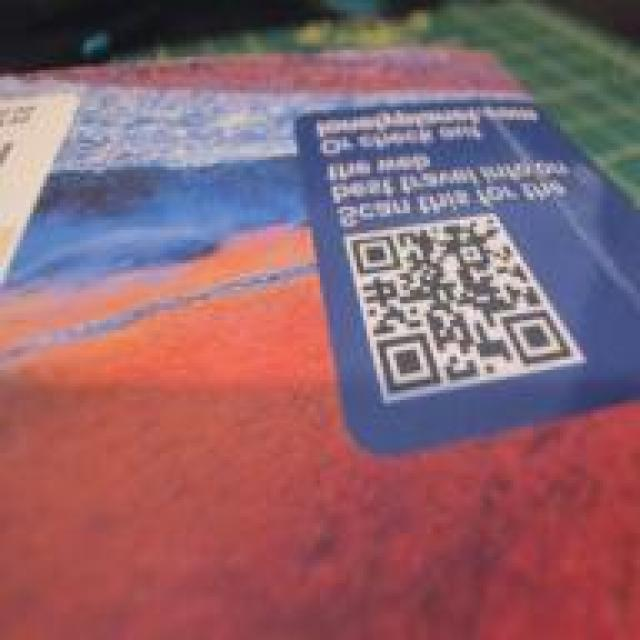QR_CODE: (342, 204, 576, 418)
